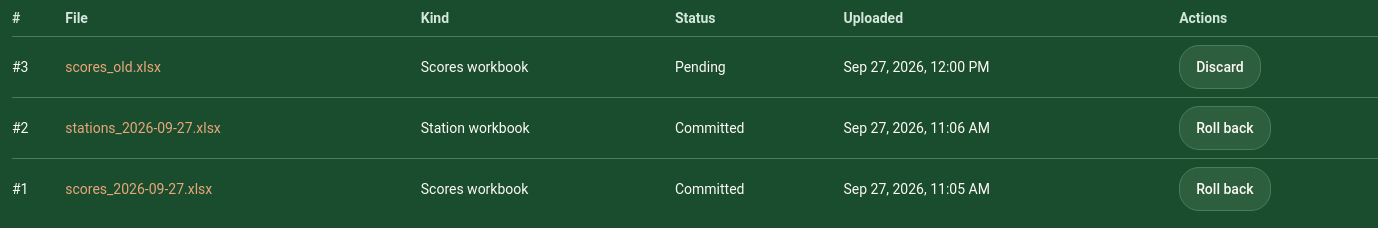
it: ImportHistory › discards a pending import
Click the button "Discard" at (1220, 67), box top-left (1179, 45), bottom-right (1261, 89)
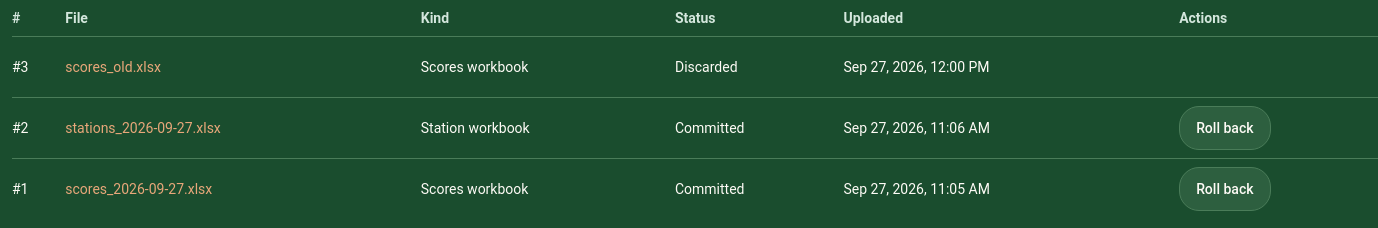
Expected: the text "Discarded" is shown, top-left (675, 36), bottom-right (843, 98)
